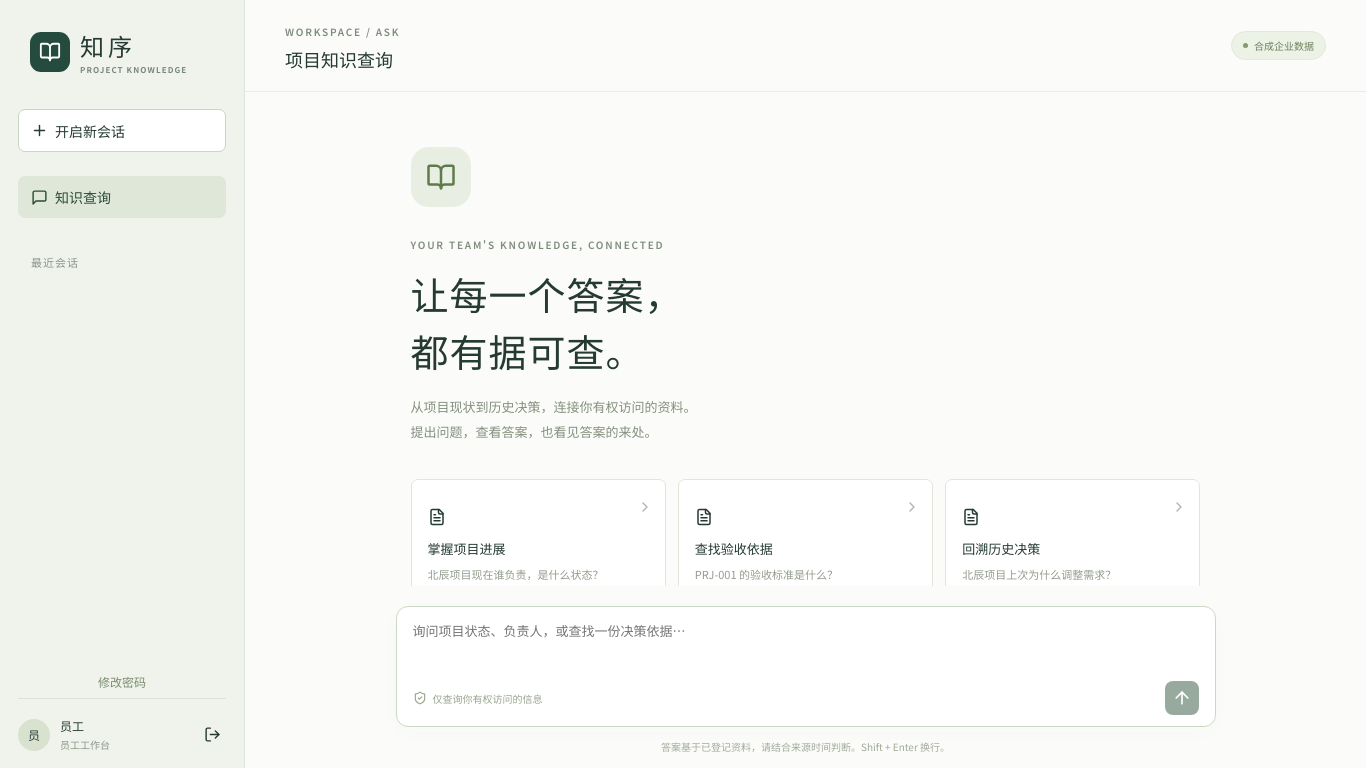
Test: 修改密码提交旧密码和新密码
Click the button "修改密码" at (122, 682), box [18,665,226,698]
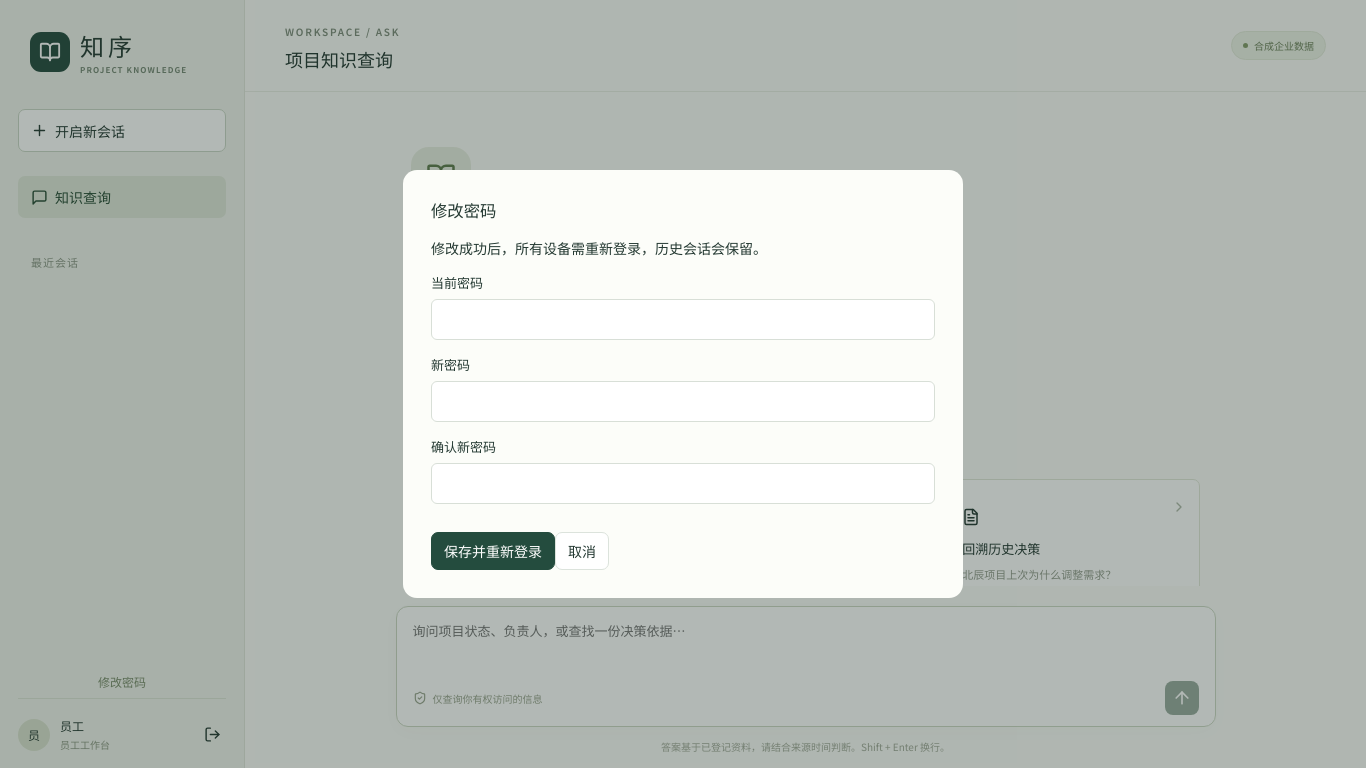
Type "123456" into the password field labelled "当前密码" at (683, 320), box [431,299,935,340]
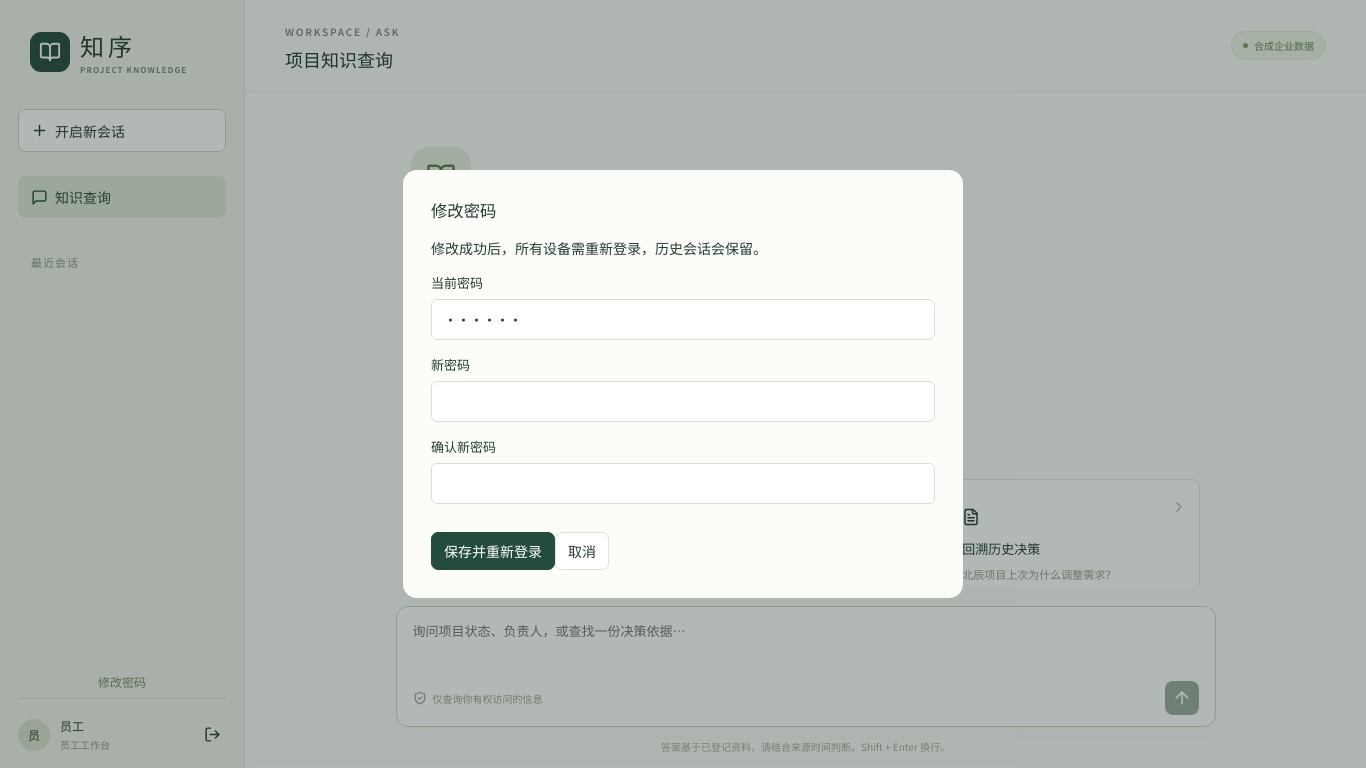
Type "654321" into the password field labelled "新密码" at (683, 402), box [431,381,935,422]
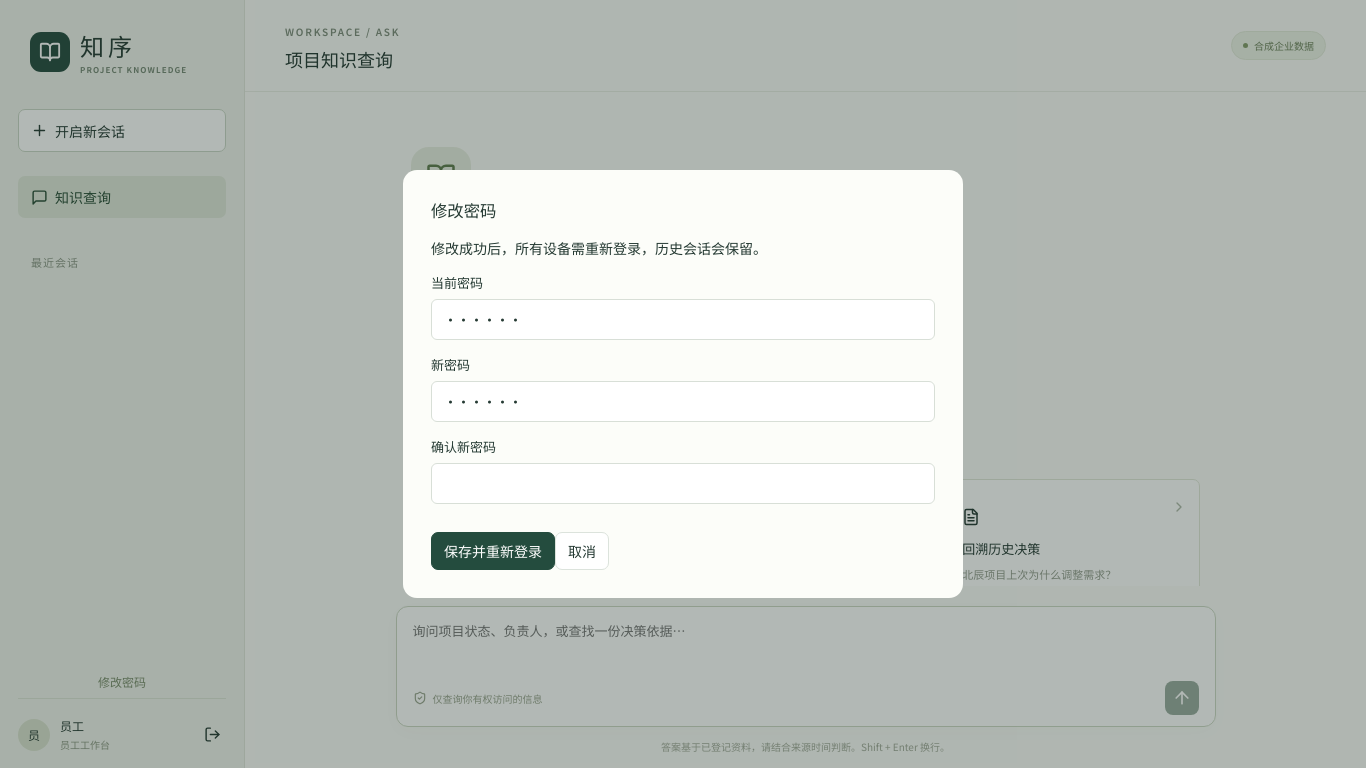
Type "654321" into the password field labelled "确认新密码" at (683, 484), box [431,463,935,504]
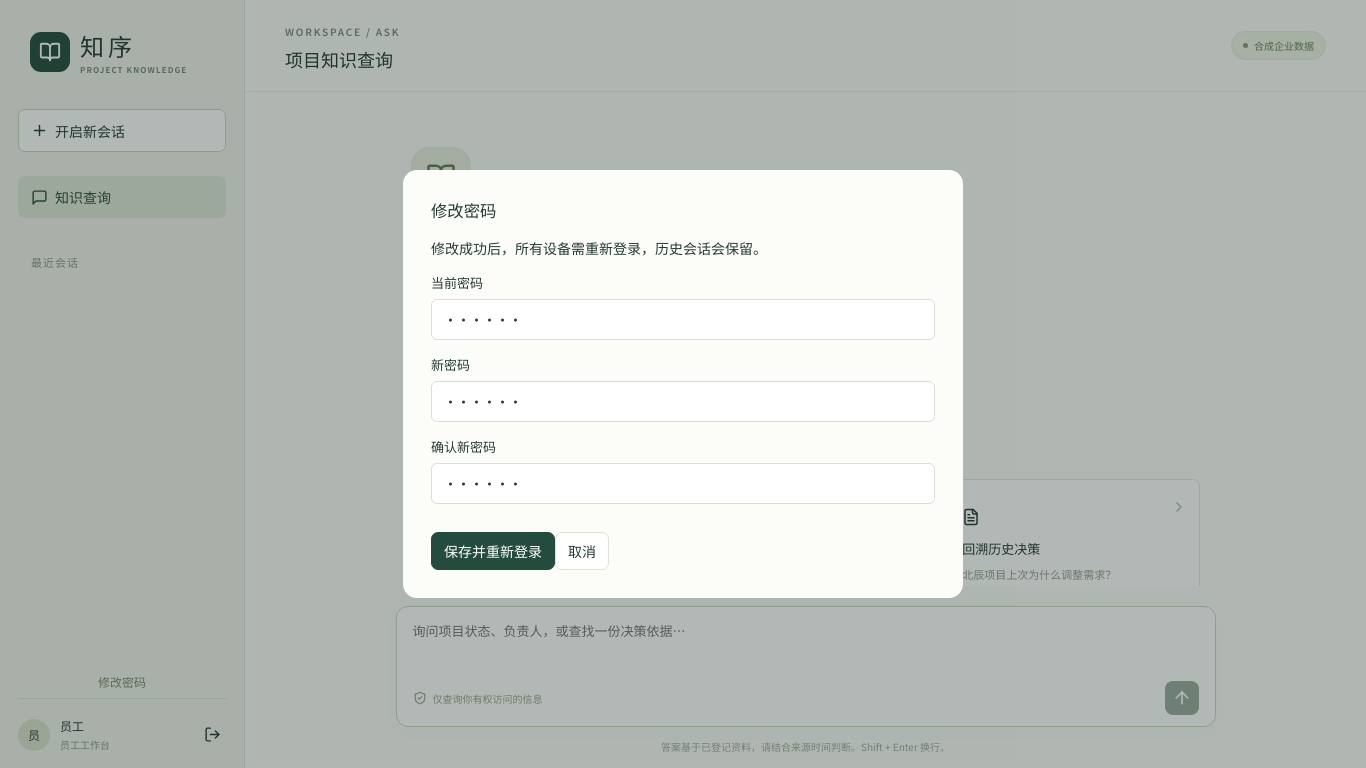
Click the button "保存并重新登录" at (493, 551), box [431,532,555,570]
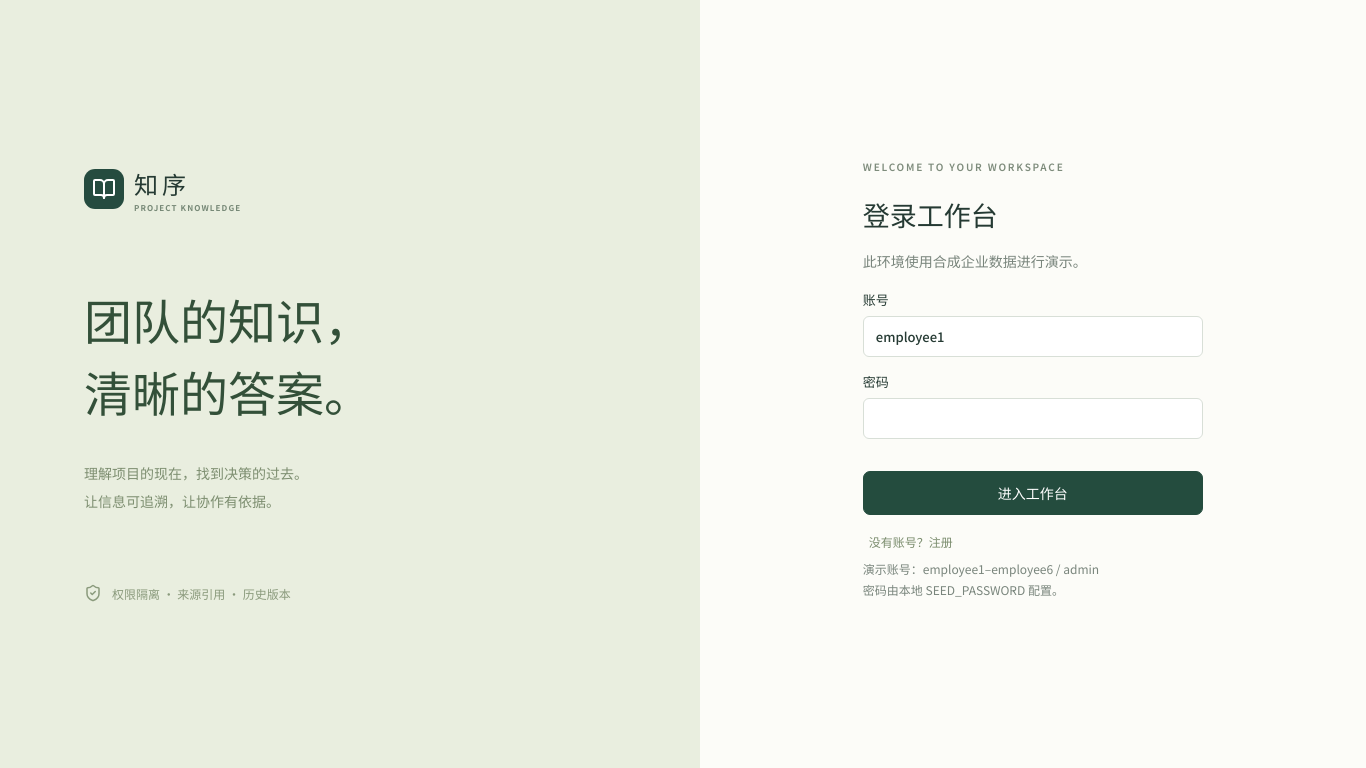
expect the heading "登录工作台" is shown: met, box [863,195,998,234]
